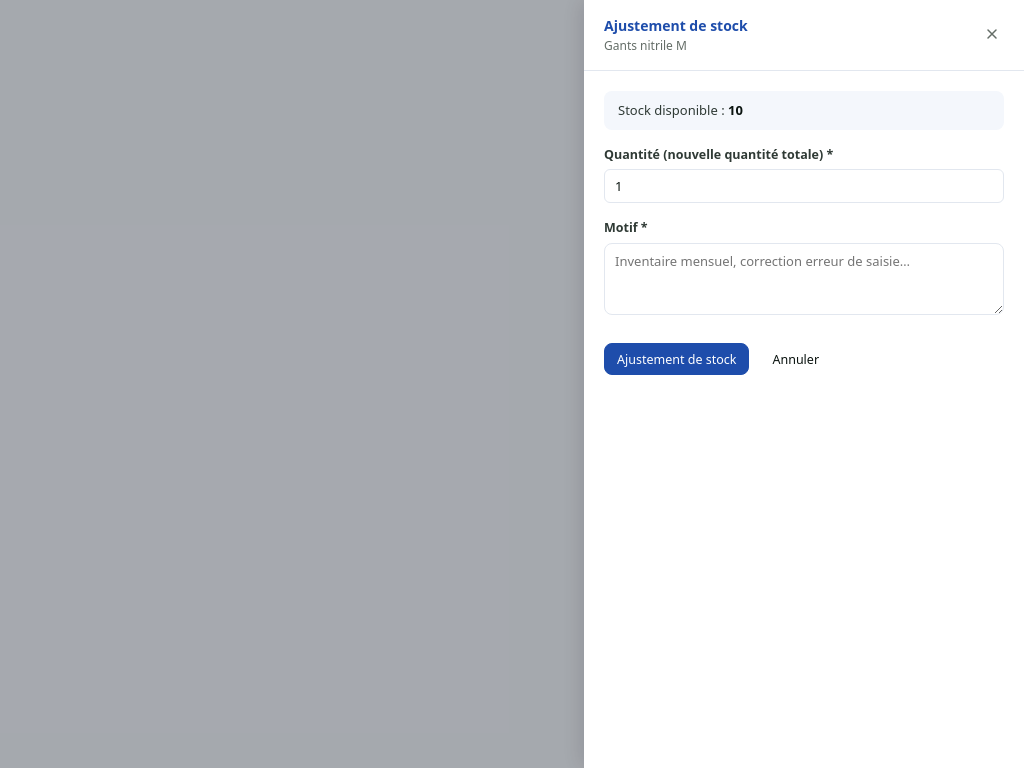
Test case: MovementDrawer — ADJUSTMENT mode › shows validation error when reason is missing
Replace the text in the number field labelled "Quantité (nouvelle quantité totale) *" with "8" at (804, 186), box [604,169,1004,203]
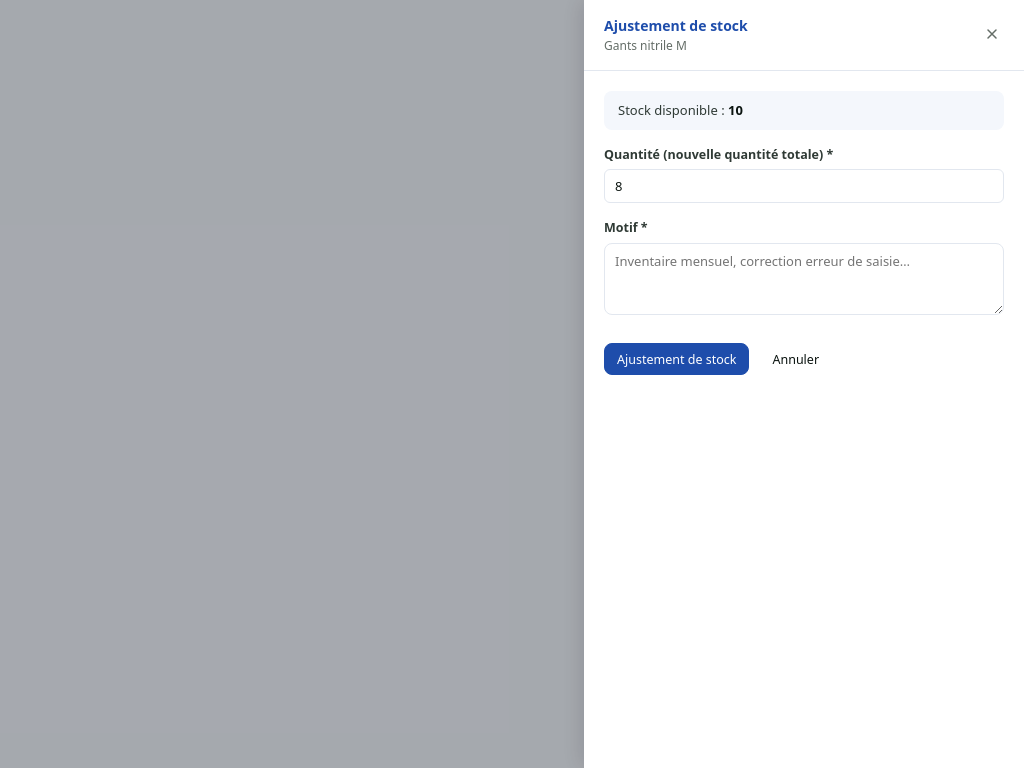
Click the button "Ajustement de stock" at (677, 359), box [604,343,750,375]
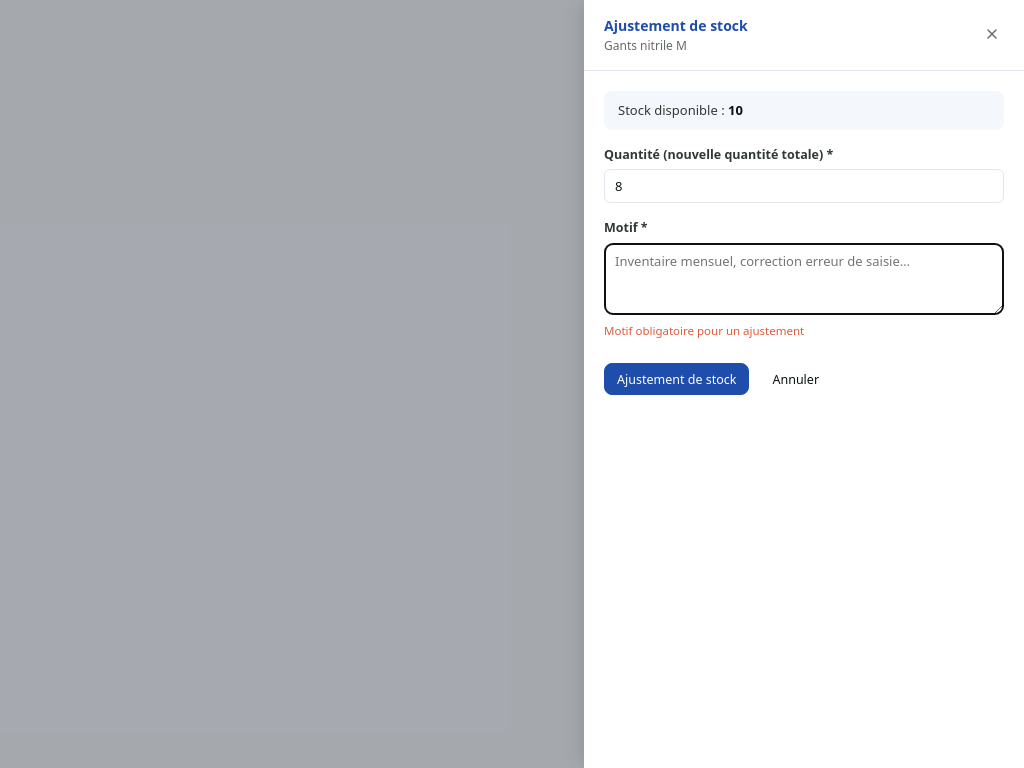
Check: the text "Motif obligatoire pour un ajustement" is shown, box [604,323,804,338]
